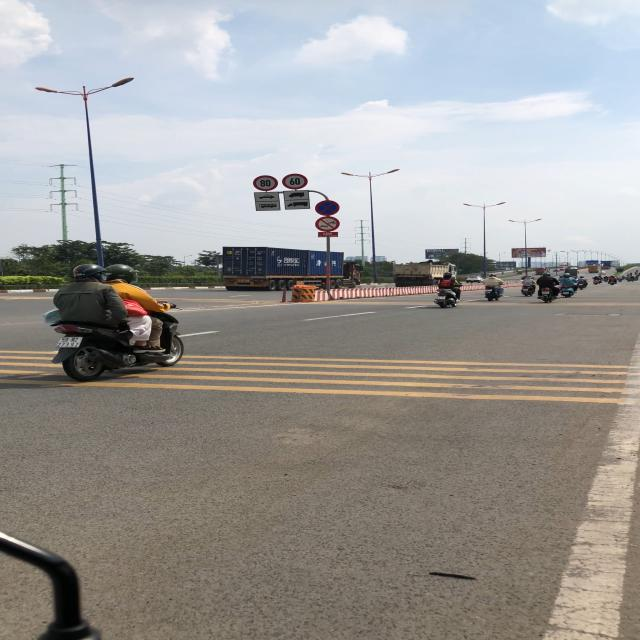Bien bao cam dung xe va do xe: (314, 200, 341, 217)
Bien bao toc do toi da cho phep: (280, 172, 310, 190), (252, 174, 278, 191)
